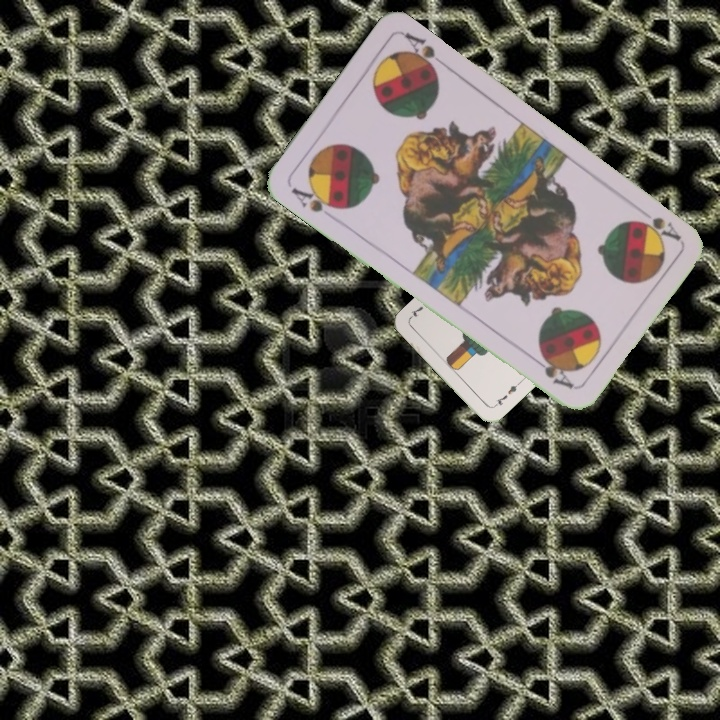E7: (489, 379, 522, 410)
SA: (630, 202, 683, 244), (286, 181, 344, 216)
